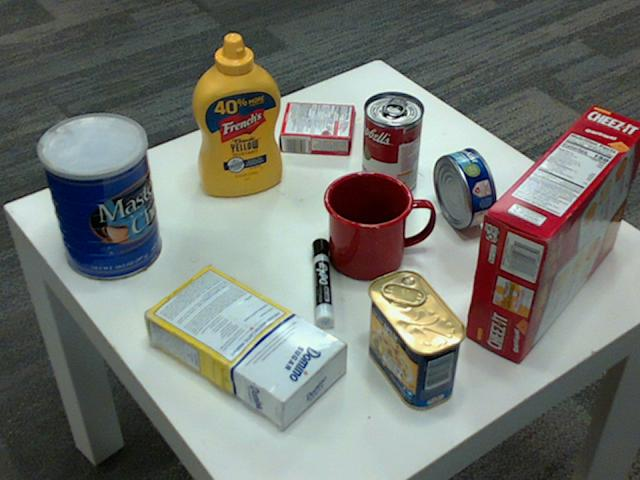cracker_box: (463, 104, 639, 361)
gelatin_box: (280, 101, 355, 152)
large_marker: (311, 239, 332, 333)
master_chef_can: (35, 113, 159, 281)
mug: (322, 168, 431, 277)
mustard_bottle: (191, 33, 282, 195)
potted_meat_can: (365, 270, 467, 409)
sugar_box: (139, 262, 344, 425)
tomato_soup_can: (361, 92, 423, 197)
tuna_fish_can: (432, 147, 494, 228)
